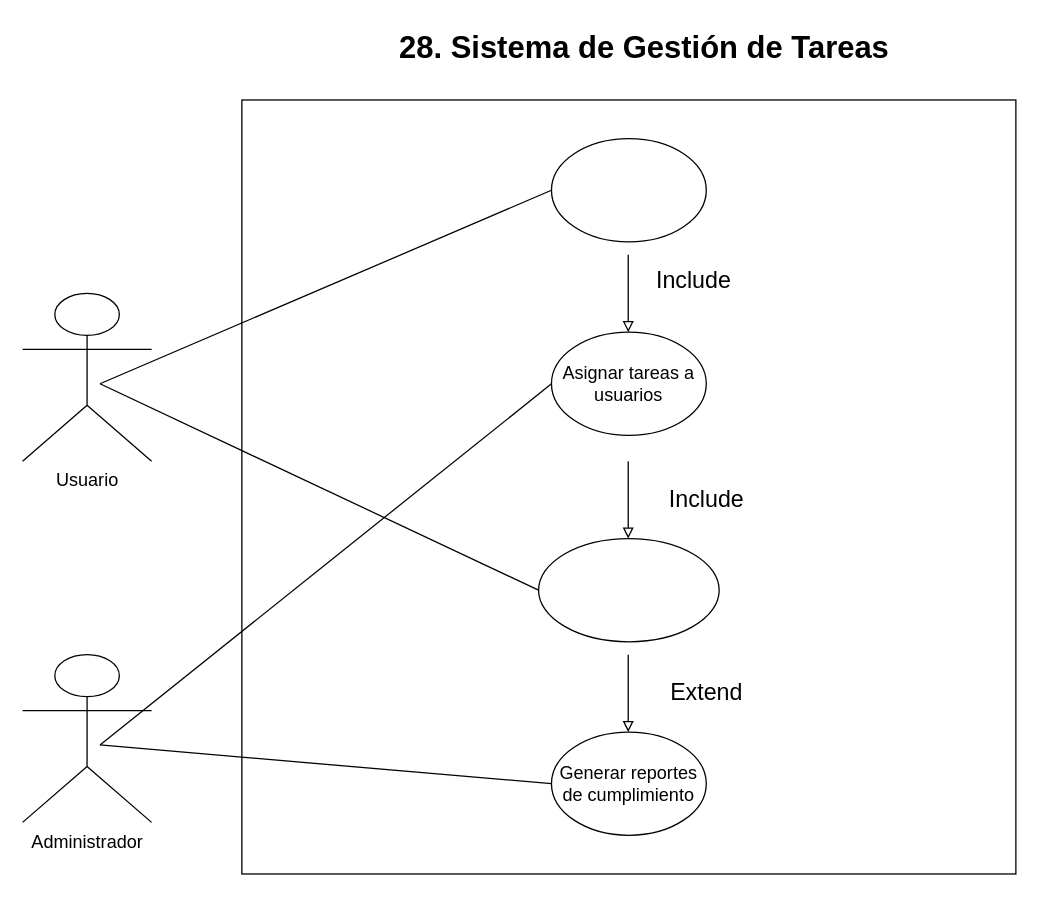
Some shapes in this 1038 by 897 pixel diagram are drawn without their labels. Each missing label, with the box of its shape:
Consultar progreso de tarea: (537, 537, 719, 642)
Crear tareas: (550, 137, 706, 242)
